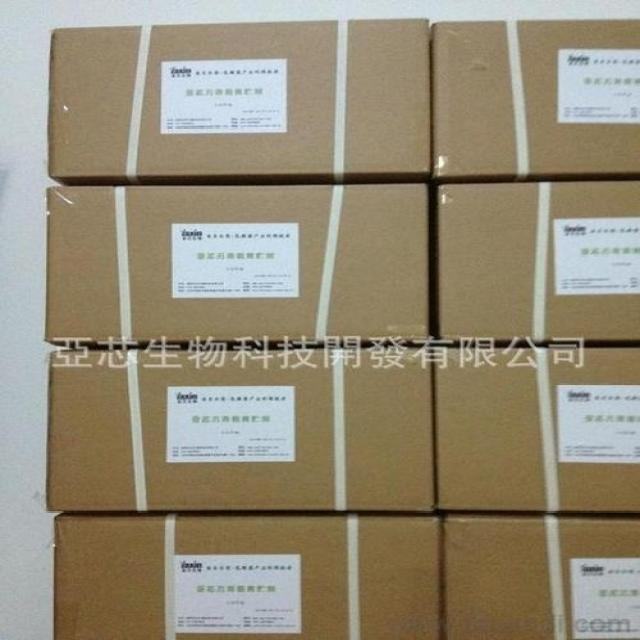box: (48, 345, 433, 512), (48, 21, 431, 186), (46, 183, 428, 348), (55, 514, 444, 637), (436, 347, 639, 514), (432, 180, 639, 342), (434, 19, 639, 180), (440, 513, 638, 638)
